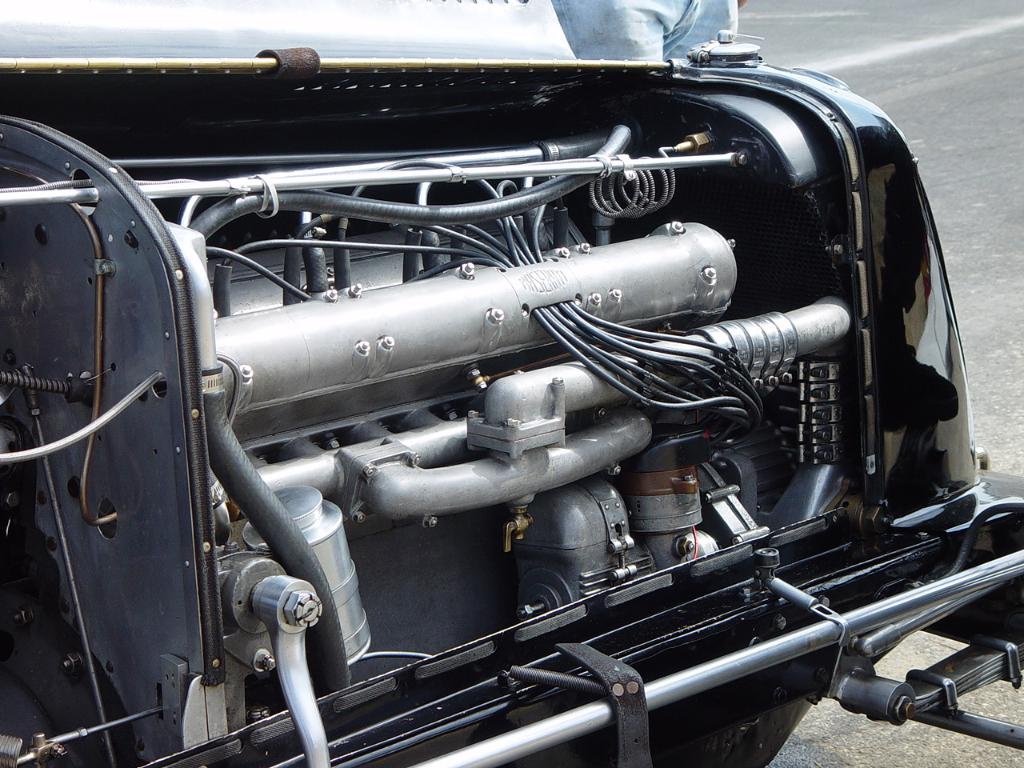Car: (35, 36, 946, 768)
